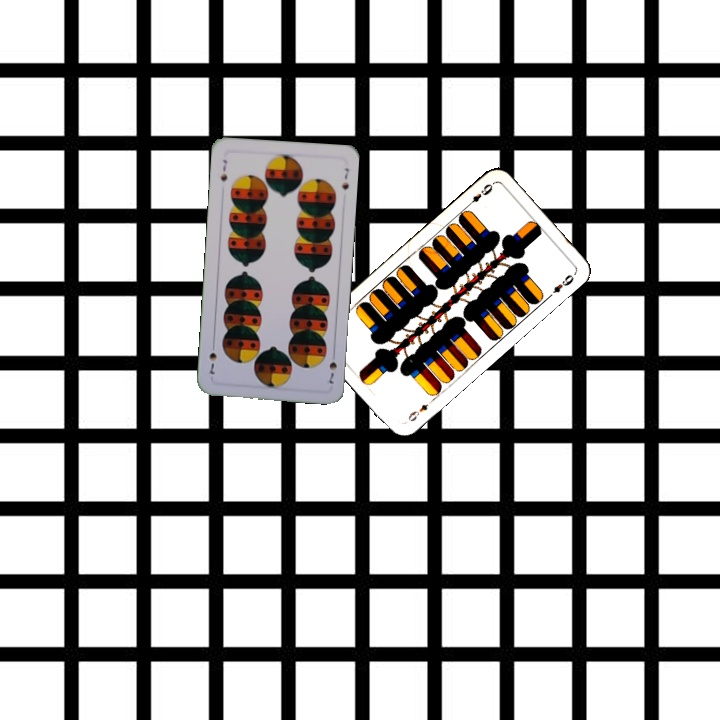E9: (463, 180, 495, 209), (404, 399, 431, 424)
S7: (322, 348, 340, 387), (216, 156, 230, 184)
